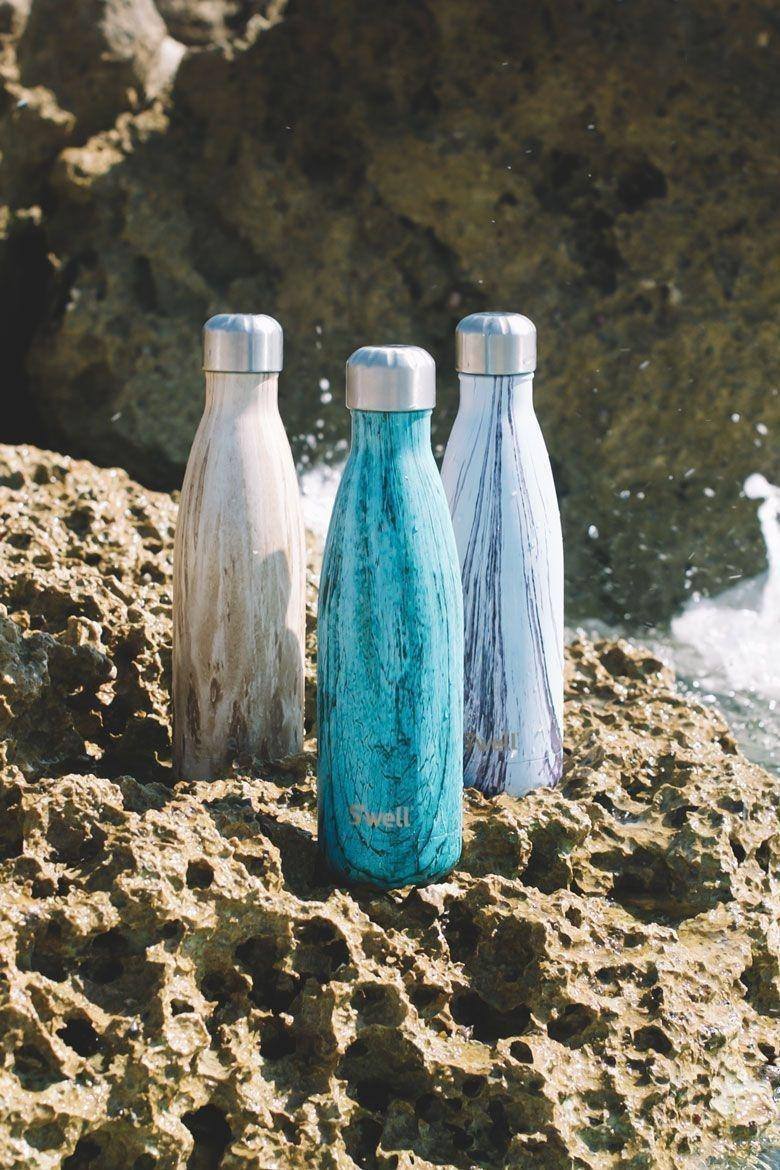gym bottle: (313, 341, 468, 893), (168, 311, 309, 789), (436, 312, 570, 795)
